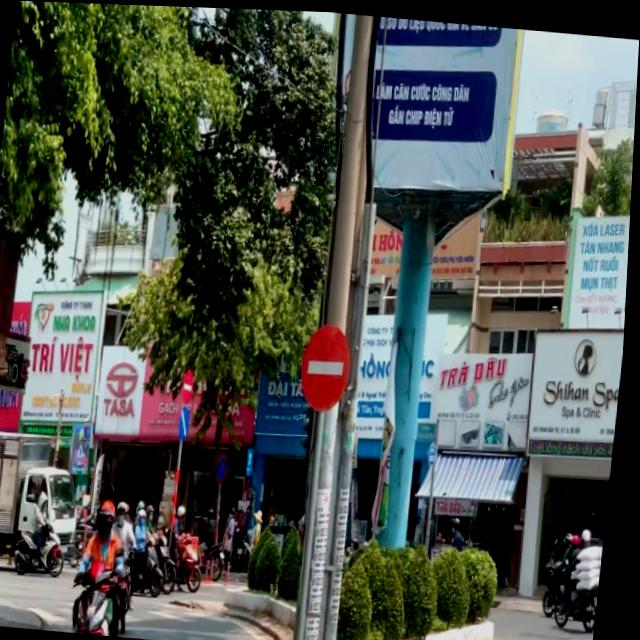Cam di nguoc chieu: (298, 316, 360, 416), (186, 366, 199, 403)
Cam do xe: (219, 451, 235, 482)
Vong chuong ngai vat sang phai: (182, 403, 195, 439)
